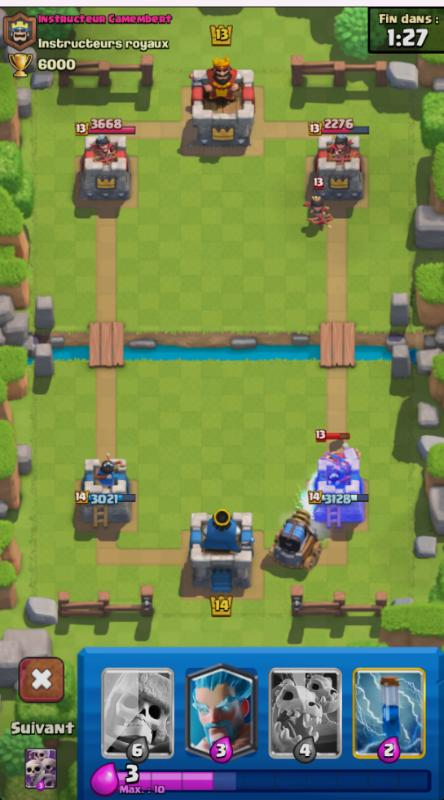zappy: (273, 507, 317, 577)
